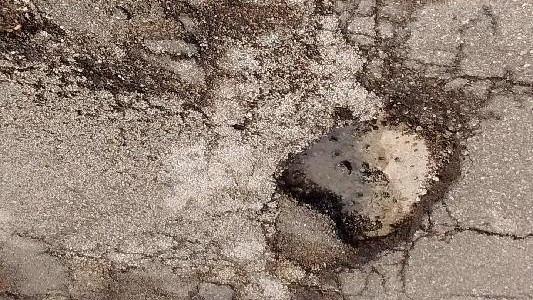pothole: (267, 104, 469, 260), (0, 0, 46, 42)
